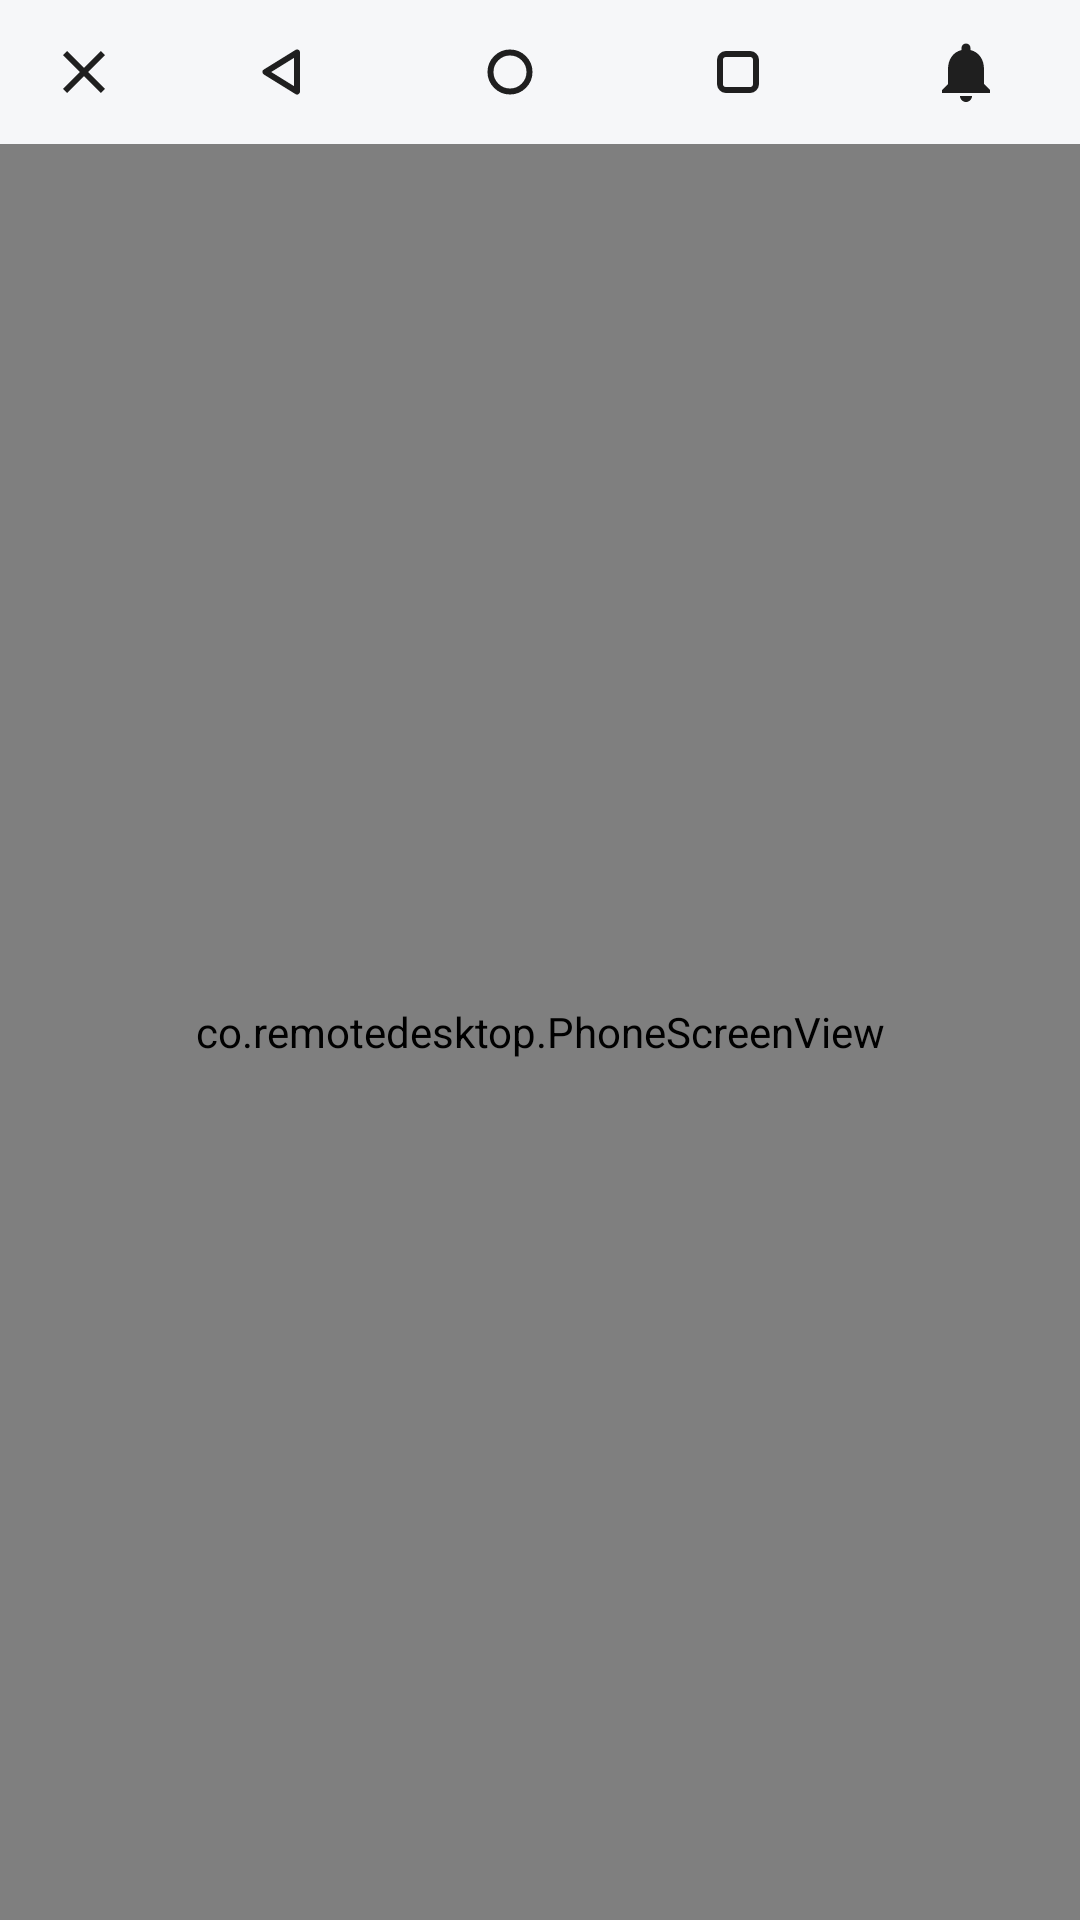

Screen size 1080px×1920px. Icon name, then its box in pixels as (x1, y1, x2, y2):
Back: (262, 49, 300, 95)
Home: (487, 49, 533, 95)
Notifications: (942, 43, 990, 102)
Recent apps: (717, 51, 759, 93)
